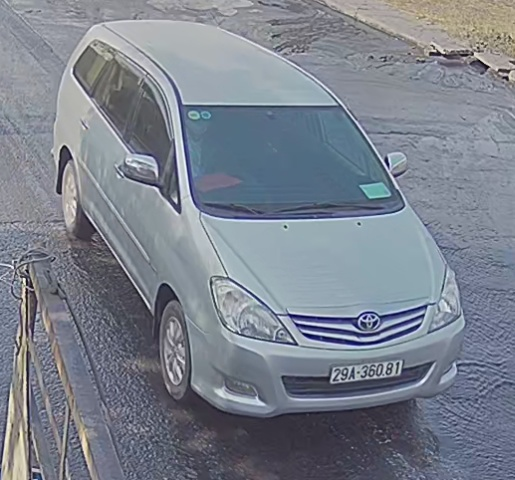vehicle plate: (329, 358, 406, 382)
